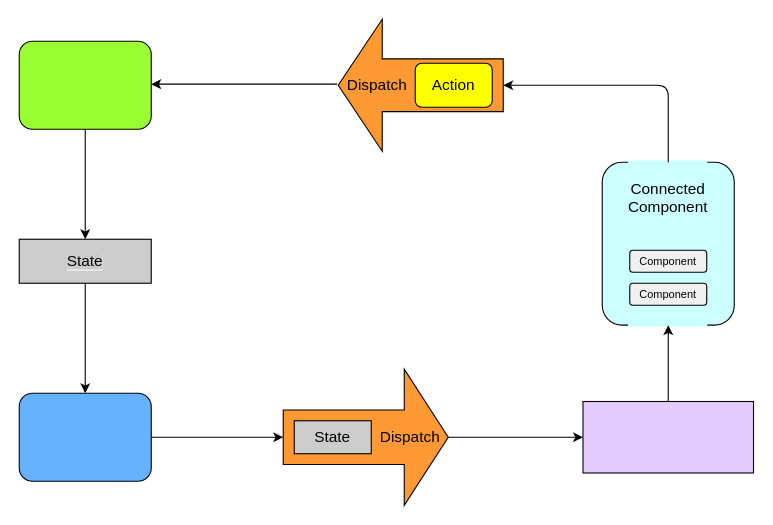
Some shapes in this 773 by 525 pixel diagram are drawn without their labels. Each missing label, with the centre of its shape:
"mapStateProps mapDispatchToProps" goes at [668,436].
"Reducer" goes at [84,84].
"Store" goes at [84,436].
